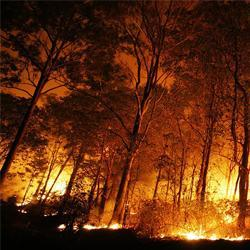fire: (43, 170, 77, 197), (222, 177, 243, 202), (184, 232, 242, 241), (83, 224, 125, 231)
